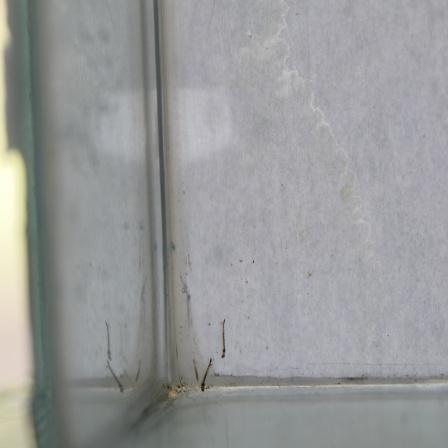Jentik-Nyamuk: (199, 356, 214, 393), (217, 316, 229, 362)
